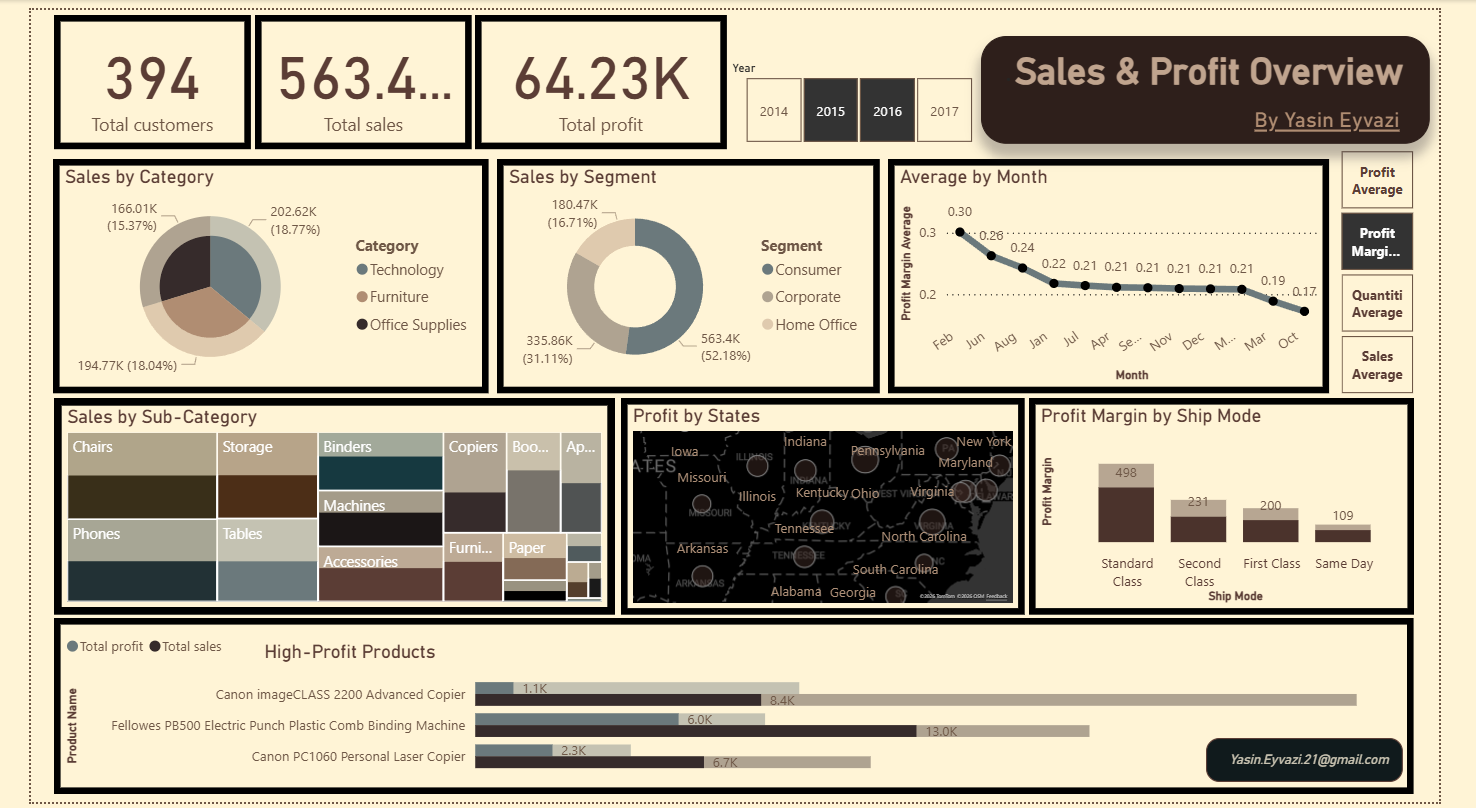

The page's visual inventory and layout, read from the dashboard file:
{"tool":"powerbi","page":{"name":"Sales Dashboard","canvas":[1280,720],"ordinal":0},"visuals":[{"type":"pieChart","title":"Sales by Category","fields":{"Category":["Sample - Superstore.Category"],"Y":["Sample - Superstore.Total sales"]},"box":[20,135,396,213],"z":0},{"type":"slicer","fields":{"Values":["Sample - Superstore.Year"]},"box":[624.8,40.6,254.9,85.7],"z":1000},{"type":"azureMap","title":"Profit by States","fields":{"Category":["Sample - Superstore.State","Sample - Superstore.City"],"Size":["Sum(Table1.Profit)"]},"box":[536,353,367,197],"z":2000},{"type":"card","fields":{"Values":["Sample - Superstore.Total customers"]},"box":[21,5,178.9,121.9],"z":3000},{"type":"card","fields":{"Values":["Sample - Superstore.Total sales"]},"box":[203.8,5,196.8,121.9],"z":4000},{"type":"donutChart","title":" Sales by Segment","fields":{"Category":["Sample - Superstore.Segment"],"Y":["Sample - Superstore.Total sales"]},"box":[424,135,348,213],"z":5000},{"type":"clusteredBarChart","title":"High-Profit Products","fields":{"Category":["Sample - Superstore.Product Name"],"Y":["Sample - Superstore.Total profit","Sample - Superstore.Total sales"]},"box":[21,553,1236,160],"z":6000},{"type":"slicer","fields":{"Values":["Parameter.Parameter"]},"box":[1165,106,115,259],"z":7000},{"type":"lineChart","title":"Average by Month","fields":{"Y":["Sample - Superstore.Profit Average"],"Category":["Sample - Superstore.Month"]},"box":[779,135,401,213],"z":8000},{"type":"clusteredColumnChart","title":" Profit Margin by Ship Mode","fields":{"Category":["Sample - Superstore.Ship Mode"],"Y":["Sum(Table1.Profit Margin)"]},"box":[907,353,350,197],"z":9000},{"type":"card","fields":{"Values":["Sample - Superstore.Total profit"]},"box":[403.7,5,228.8,121.9],"z":10000},{"type":"textbox","box":[863.9,23.7,408.2,98.1],"z":11000},{"type":"textbox","box":[1107.5,83.5,145.5,86.8],"z":12000},{"type":"textbox","box":[207.2,568,242.2,33.1],"z":13000},{"type":"treemap","title":"Sales by Sub-Category","fields":{"Group":["Sample - Superstore.Sub-Category"],"Values":["Sample - Superstore.Total sales"]},"box":[21,353,510,197],"z":14000},{"type":"textbox","box":[1068.2,661.8,179.1,40],"z":16001}]}

Visuals, with their boxes in screenshot pixels (x1, y1, x2, y2), scaled from the page's 1280x720 canvas onto the 1476x808 screenshot:
"Sales by Category" pieChart: <box>23,152,480,391</box>
slicer - Sample - Superstore.Year: <box>720,46,1014,142</box>
"Profit by States" azureMap: <box>618,396,1041,617</box>
card - Sample - Superstore.Total customers: <box>24,6,231,142</box>
card - Sample - Superstore.Total sales: <box>235,6,462,142</box>
" Sales by Segment" donutChart: <box>489,152,890,391</box>
"High-Profit Products" clusteredBarChart: <box>24,621,1449,800</box>
slicer - Parameter.Parameter: <box>1343,119,1475,410</box>
"Average by Month" lineChart: <box>898,152,1361,391</box>
" Profit Margin by Ship Mode" clusteredColumnChart: <box>1046,396,1449,617</box>
card - Sample - Superstore.Total profit: <box>466,6,729,142</box>
textbox: <box>996,27,1467,137</box>
textbox: <box>1277,94,1445,191</box>
textbox: <box>239,637,518,675</box>
"Sales by Sub-Category" treemap: <box>24,396,612,617</box>
textbox: <box>1232,743,1438,788</box>
